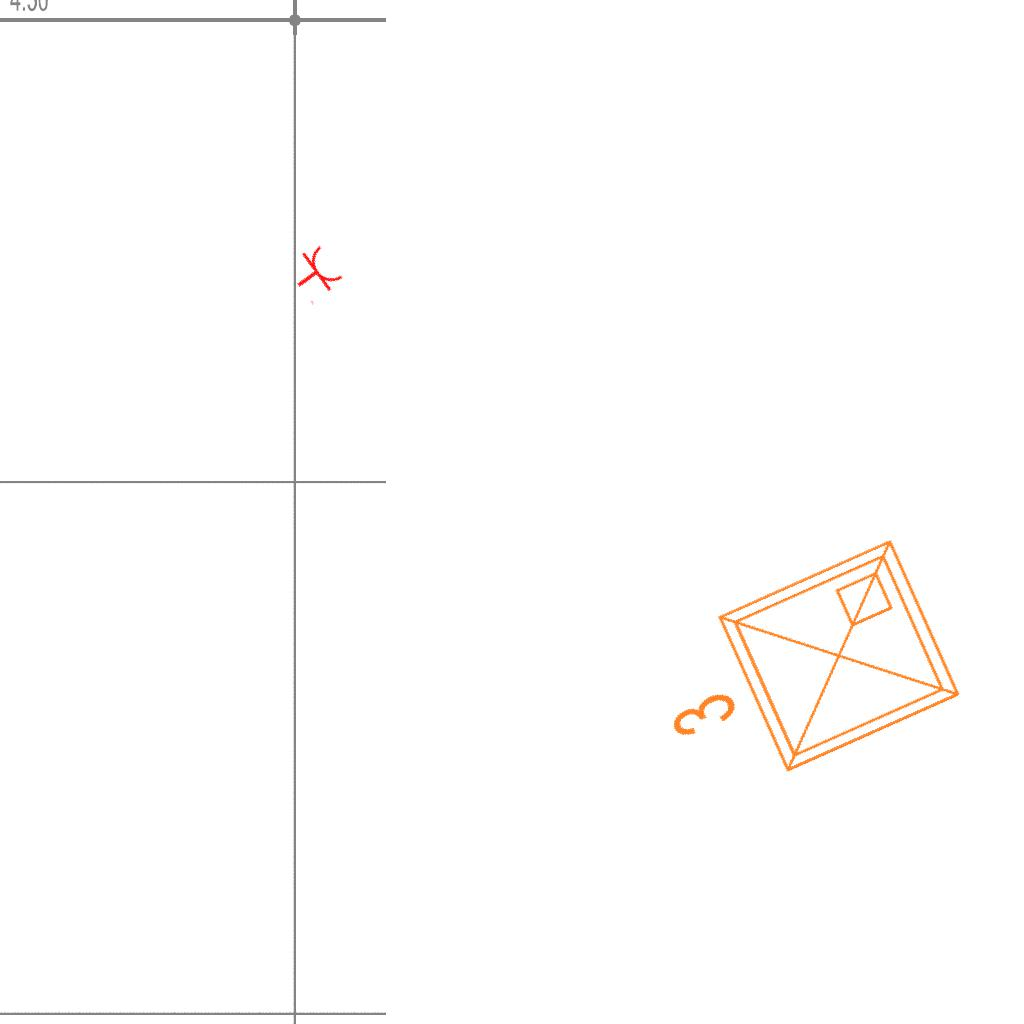Einbaudownlights_LED_Konferenzraeume: (623, 519, 983, 833)
Schukosteckdose_einfach: (283, 241, 348, 307)
